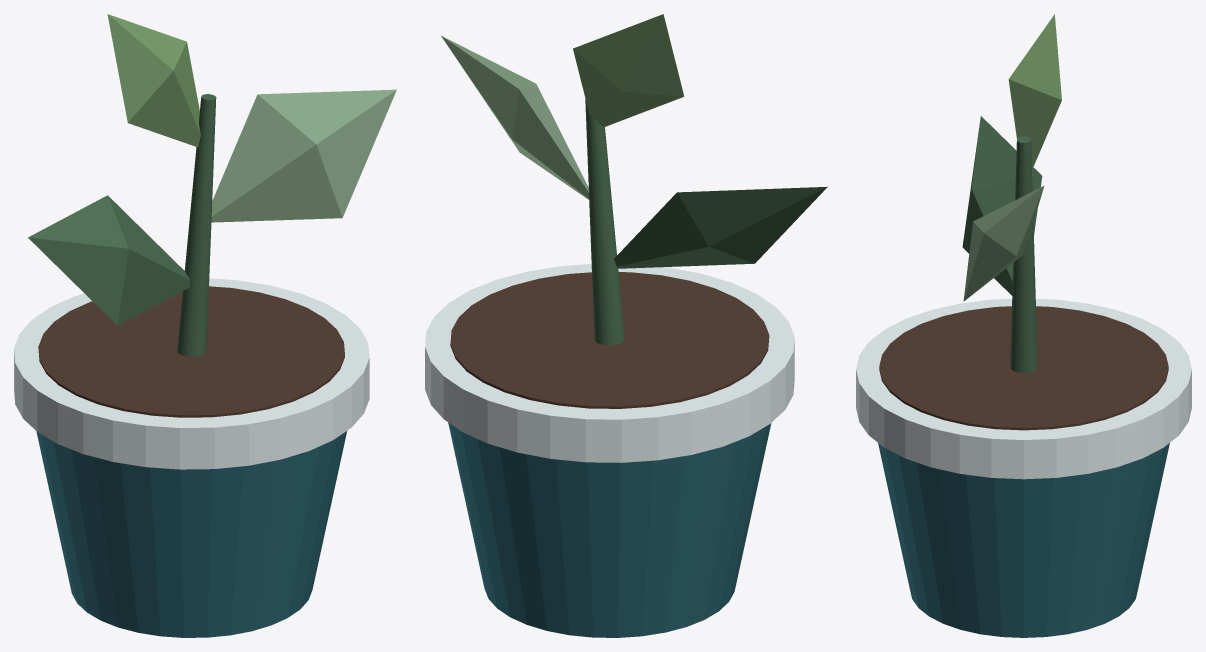
File: pot.glb
3 views of the same model, side by side, from view 1: azimuth 30°, elevation 25°; view 2: azimuth 150°, elevation 25°; view 3: azimuth 270°, elevation 25° (orthographic). The views are drawn at different scales.
Parts seen in each view (by area): view 1: ceramic pot, soil, rim, leaf 2, leaf 1, leaf 3, stem; view 2: ceramic pot, soil, rim, leaf 1, leaf 3, leaf 2, stem; view 3: ceramic pot, soil, rim, leaf 3, leaf 2, leaf 1, stem.
Part boxes in pixels (x1,y1,x2,y2): ceramic pot: (36, 431, 346, 637); soil: (38, 286, 344, 417); rim: (14, 278, 369, 469); leaf 2: (211, 89, 396, 222); leaf 1: (28, 195, 190, 325); leaf 3: (107, 14, 200, 147); stem: (177, 94, 216, 356); ceramic pot: (448, 422, 771, 637); soil: (450, 272, 769, 408); rim: (425, 264, 794, 462); leaf 1: (614, 186, 827, 268); leaf 3: (573, 14, 684, 127); leaf 2: (441, 36, 589, 199); stem: (585, 99, 624, 345); ceramic pot: (878, 443, 1169, 637); soil: (879, 306, 1168, 430); rim: (856, 298, 1191, 479); leaf 3: (1008, 14, 1061, 169); leaf 2: (963, 186, 1044, 301); leaf 1: (962, 116, 1042, 295); stem: (1010, 136, 1037, 372).
Size of the model in its own units: 1.31 by 1.95 by 1.09.
